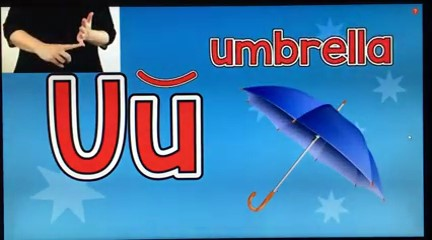U: (34, 8, 100, 69)
